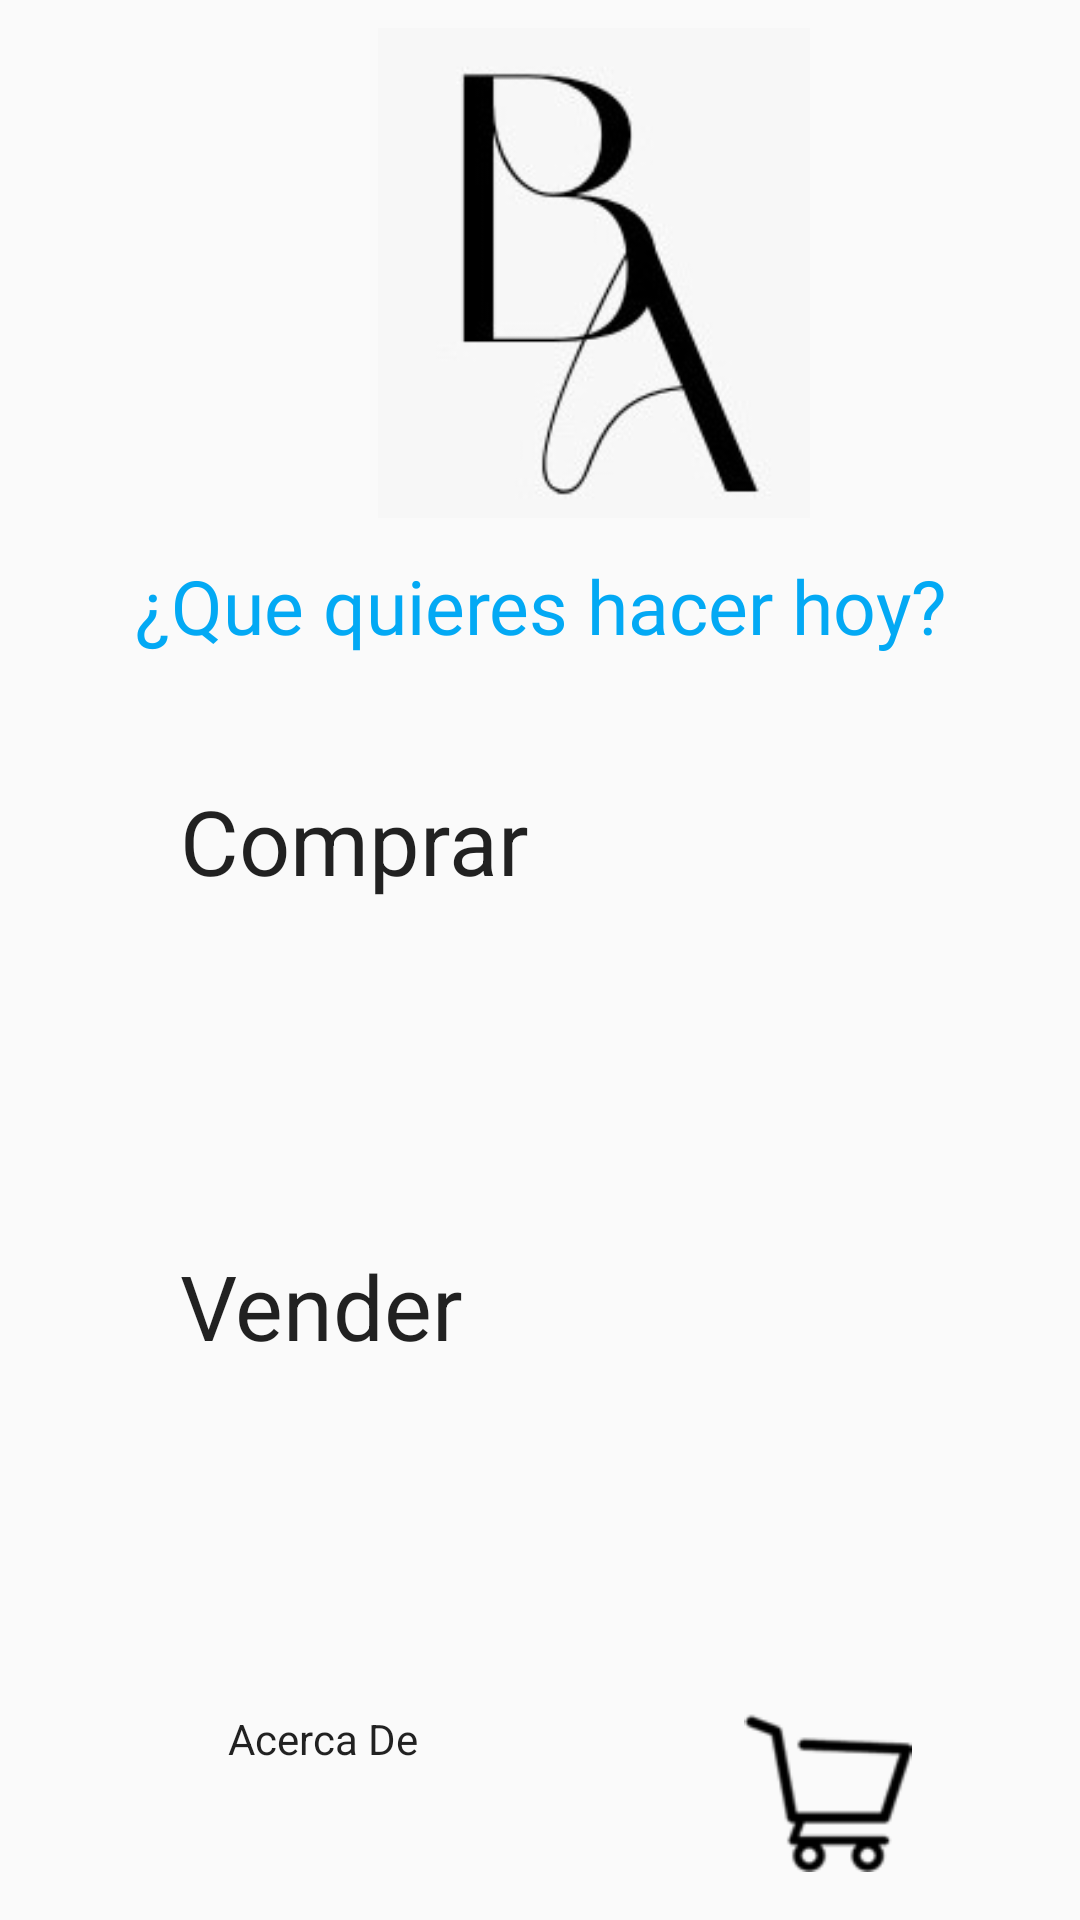

Icon bounding boxes for this 1080w x 1920h phone screenshot, format Rect(x1, y1, x2, y2):
carrito nuevo: Rect(744, 1715, 912, 1872)
